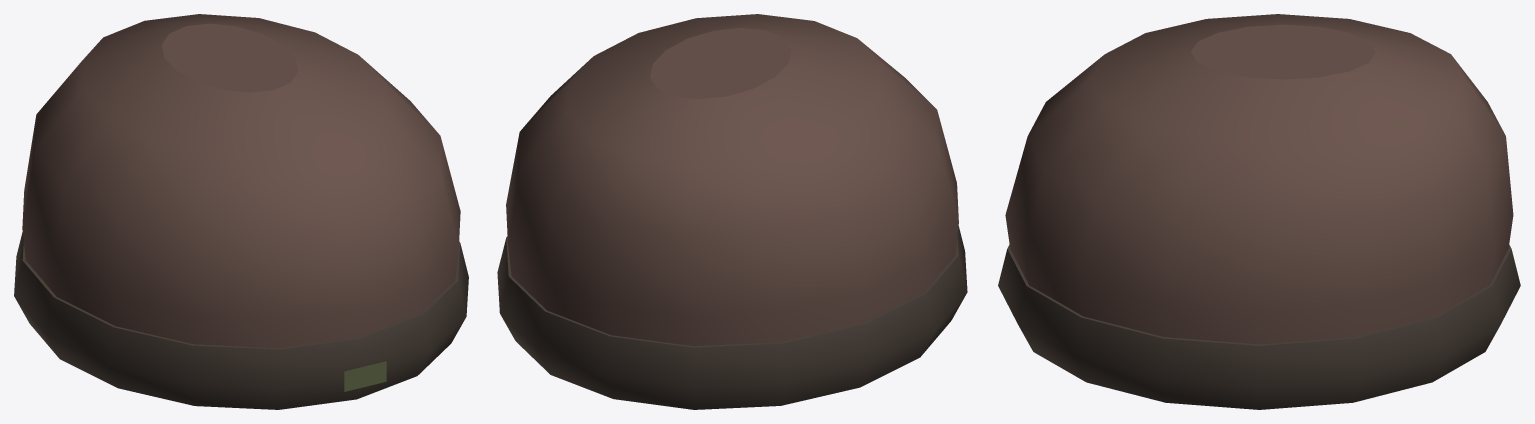
The model's file is WoolHat.gltf.
The picture shows the model from 3 angles, left to right: view 1: azimuth 30°, elevation 25°; view 2: azimuth 150°, elevation 25°; view 3: azimuth 270°, elevation 25°; orthographic projection. The views are drawn at different scales.
Visible parts, largest first — view 1: Hat; view 2: Hat; view 3: Hat.
Part boxes in pixels (x1=…): Hat: x1=14, y1=14, x2=468, y2=409; Hat: x1=497, y1=14, x2=967, y2=409; Hat: x1=998, y1=14, x2=1520, y2=409.
Bounding box in the file's own units: 0.258 × 0.157 × 0.283.
